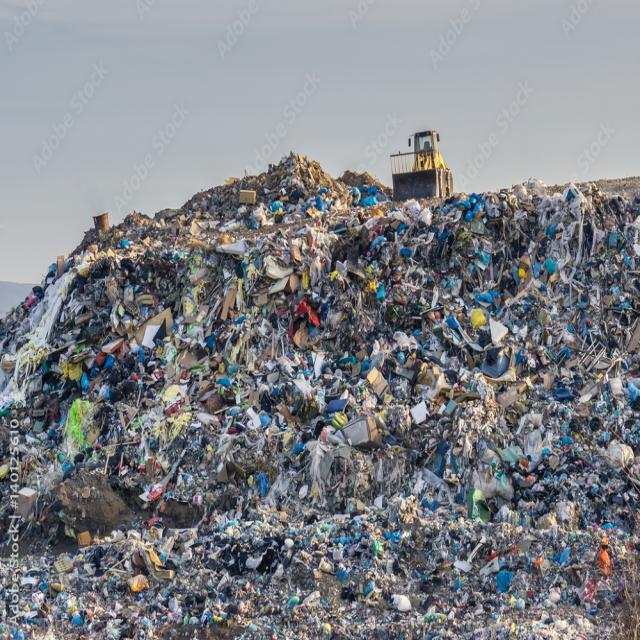trash: (79, 240, 616, 591)
